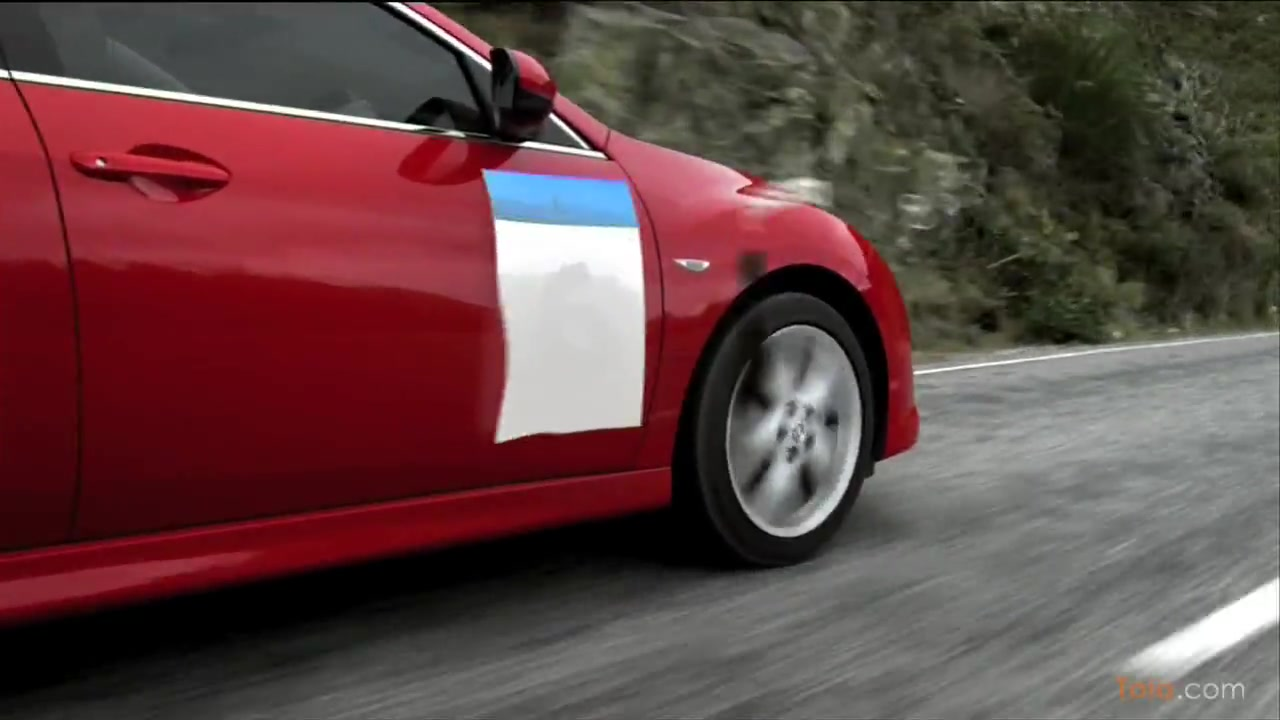car: (1, 1, 924, 625)
